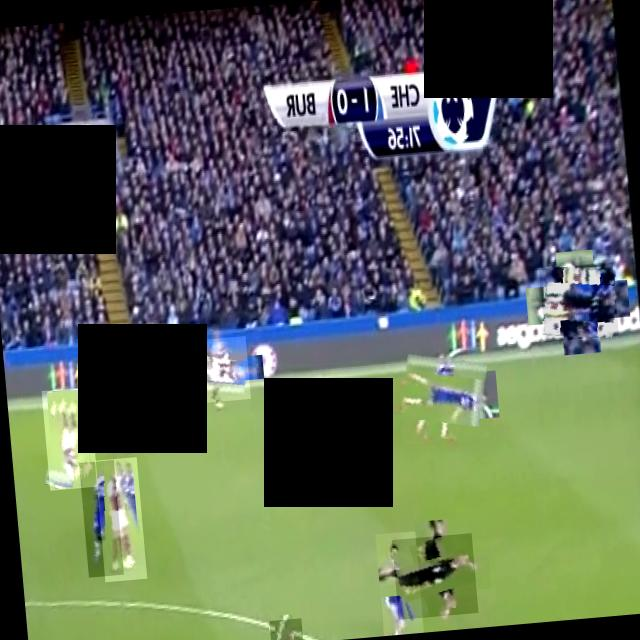referee: (390, 532, 477, 618), (537, 262, 617, 341)
soccer-player: (394, 350, 488, 443), (94, 456, 146, 580), (40, 386, 97, 490), (88, 370, 162, 442), (373, 530, 422, 636), (78, 458, 122, 576), (182, 335, 250, 403), (268, 616, 302, 640)
